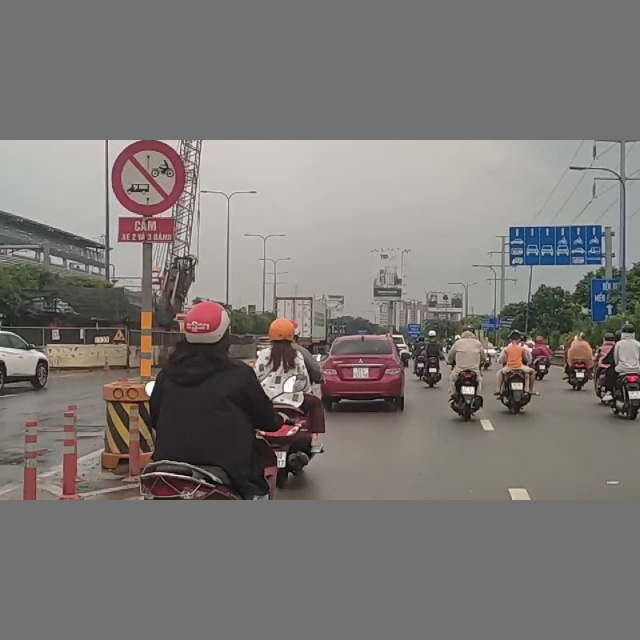P.111: (111, 141, 185, 214)
